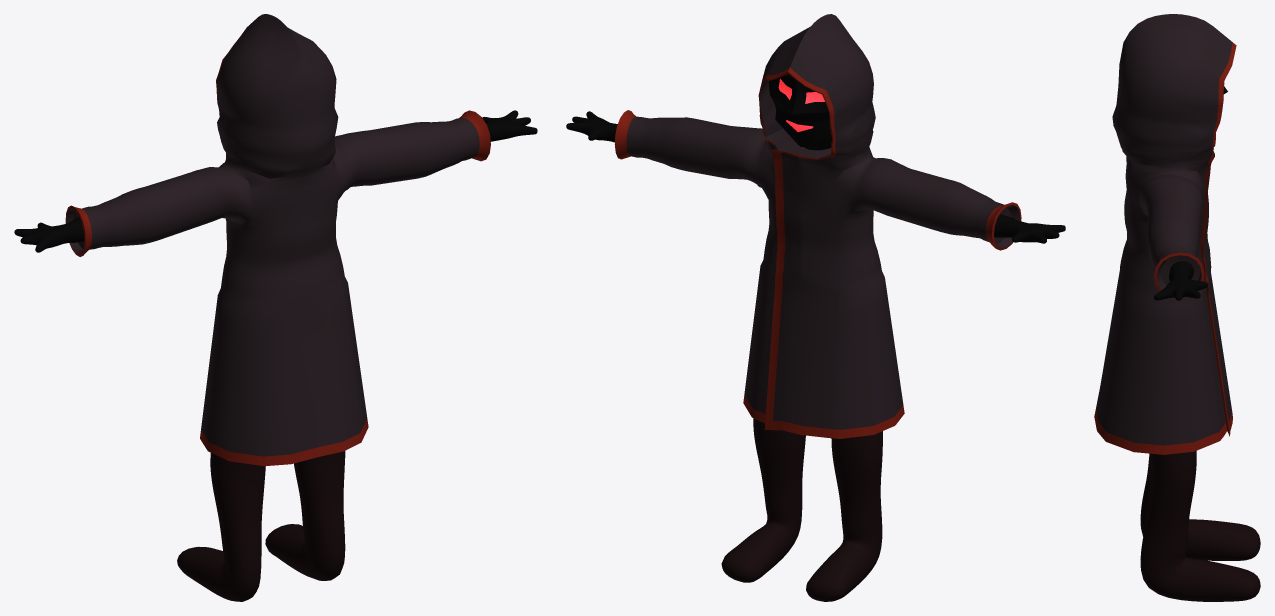
The model's file is villain.fbx.
3 views of the same model, side by side, from view 1: azimuth 30°, elevation 25°; view 2: azimuth 150°, elevation 25°; view 3: azimuth 270°, elevation 25° (orthographic). The views are drawn at different scales.
Visible parts, largest first — view 1: Villain; view 2: Villain; view 3: Villain.
Boxes of the visible parts, x1,y1,x2,y2 form: Villain: (14,14,537,601); Villain: (566,14,1065,601); Villain: (1094,14,1260,601).
Size of the model in its own units: 186 by 200 by 53.37.
